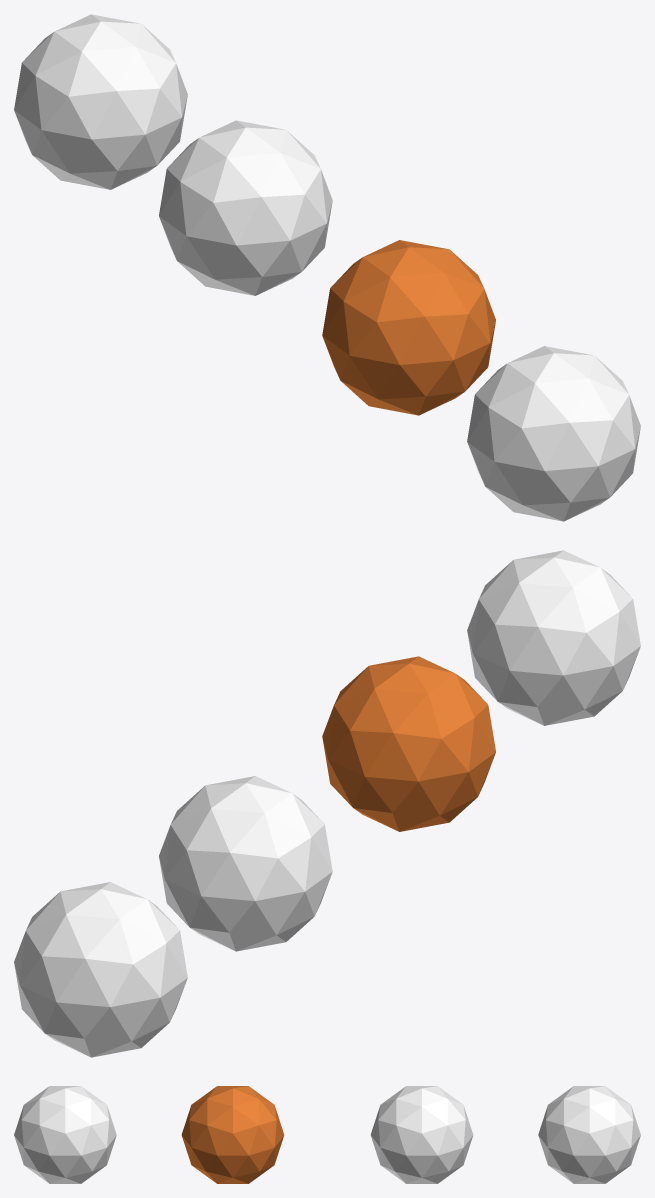
File: ship.gltf.glb
3 renders of one model, top to bottom at view 1: azimuth 30°, elevation 25°; view 2: azimuth 150°, elevation 25°; view 3: azimuth 270°, elevation 25°, orthographic. The views are drawn at different scales.
Visible parts, largest first — view 1: Icosphere, Icosphere.003, Icosphere.001, Icosphere.002; view 2: Icosphere, Icosphere.003, Icosphere.001, Icosphere.002; view 3: Icosphere, Icosphere.001, Icosphere.002, Icosphere.003.
Boxes of the visible parts, left/top/right/bottom form: Icosphere: left=467, top=346, right=640, bottom=521; Icosphere.003: left=14, top=14, right=187, bottom=189; Icosphere.001: left=322, top=240, right=495, bottom=415; Icosphere.002: left=159, top=120, right=332, bottom=295; Icosphere: left=467, top=550, right=640, bottom=725; Icosphere.003: left=14, top=882, right=187, bottom=1057; Icosphere.001: left=322, top=656, right=495, bottom=831; Icosphere.002: left=159, top=776, right=332, bottom=951; Icosphere: left=14, top=1086, right=116, bottom=1183; Icosphere.001: left=181, top=1086, right=284, bottom=1183; Icosphere.002: left=370, top=1086, right=473, bottom=1183; Icosphere.003: left=538, top=1086, right=640, bottom=1183.
Bounding box in the file's own units: 1.9 × 2 × 12.19.
